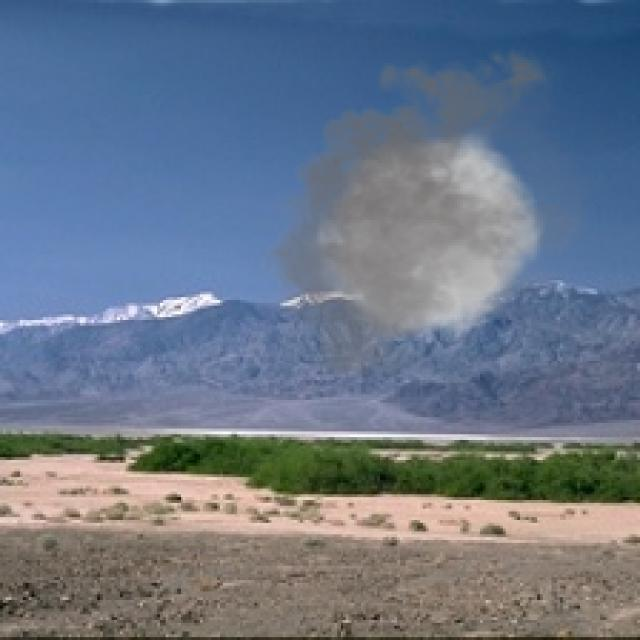smoke: (248, 40, 606, 391)
